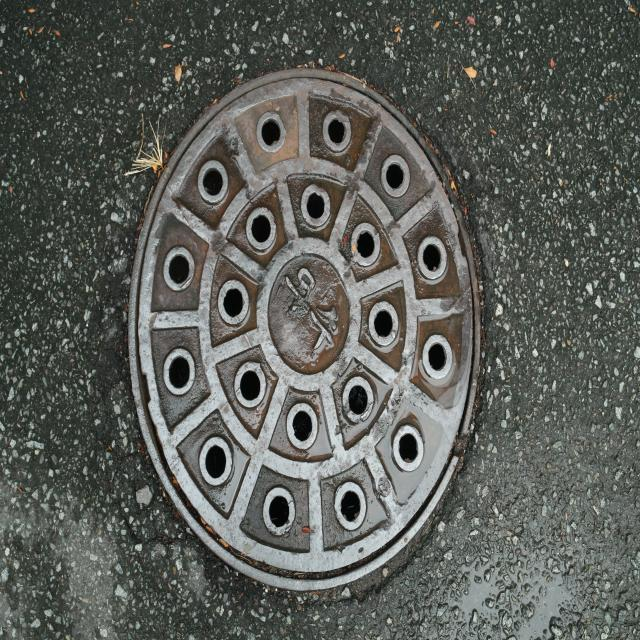manhole: (125, 69, 484, 602)
